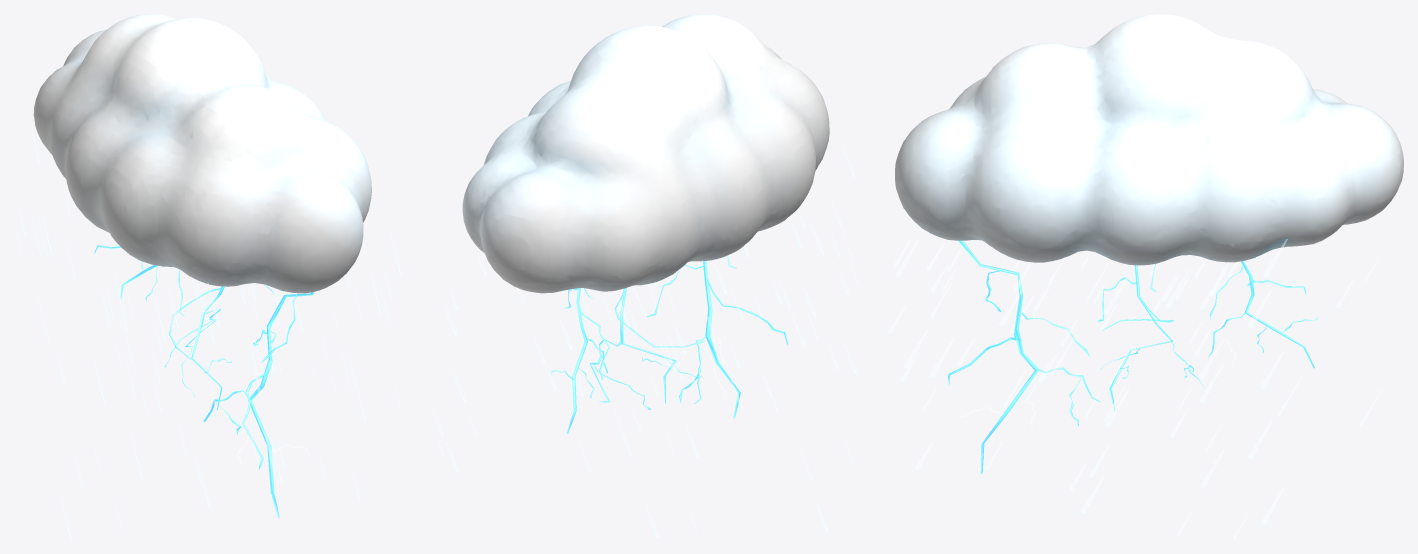
Rendered from cloud.glb.
3 views of the same model, side by side, from view 1: azimuth 30°, elevation 25°; view 2: azimuth 150°, elevation 25°; view 3: azimuth 270°, elevation 25° (orthographic). The views are drawn at different scales.
Parts seen in each view (by area): view 1: Mball.034, th bolt.001, th bolt.002; view 2: Mball.034, th bolt.001, th bolt.002, th bolt.000; view 3: Mball.034, th bolt.001, th bolt.002, th bolt.000.
Part boxes in pixels (<box>): Mball.034: <box>33,14,371,293</box>; th bolt.001: <box>203,292,314,517</box>; th bolt.002: <box>165,284,273,410</box>; Mball.034: <box>462,14,829,293</box>; th bolt.001: <box>647,255,787,418</box>; th bolt.002: <box>589,288,704,409</box>; th bolt.000: <box>551,288,610,433</box>; Mball.034: <box>895,14,1403,265</box>; th bolt.001: <box>948,240,1099,473</box>; th bolt.002: <box>1098,264,1203,411</box>; th bolt.000: <box>1208,257,1318,368</box>.
Size of the model in its own units: 7.92 by 11.34 by 11.
3 materials, 3 textured.
